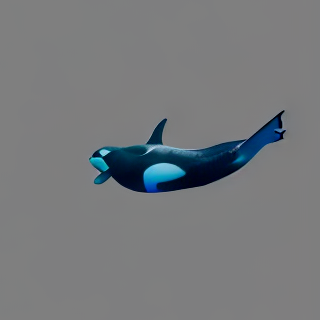Orca whale: (87, 106, 286, 195)
